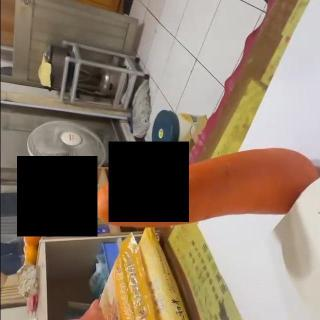carrot: (90, 146, 318, 228)
